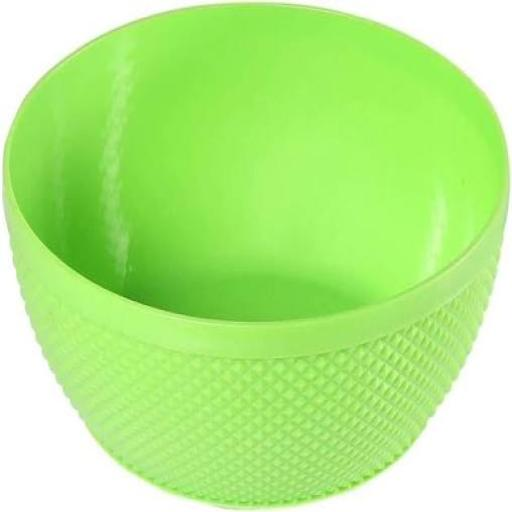Bowl: (4, 4, 509, 507)
